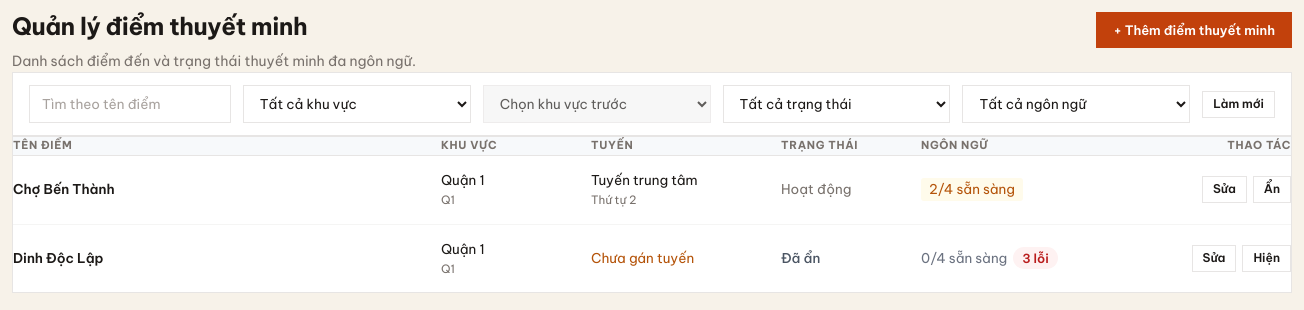
Test: PoiListPage › lọc theo trạng thái gửi overallStatus lên máy chủ
The image size is (1304, 310).
Expected: the link "Chợ Bến Thành" is shown, [13,180,114,198]
Select "Đã ẩn" in the dropdown named "Lọc theo trạng thái" at (836, 104), box [722,86,950,124]
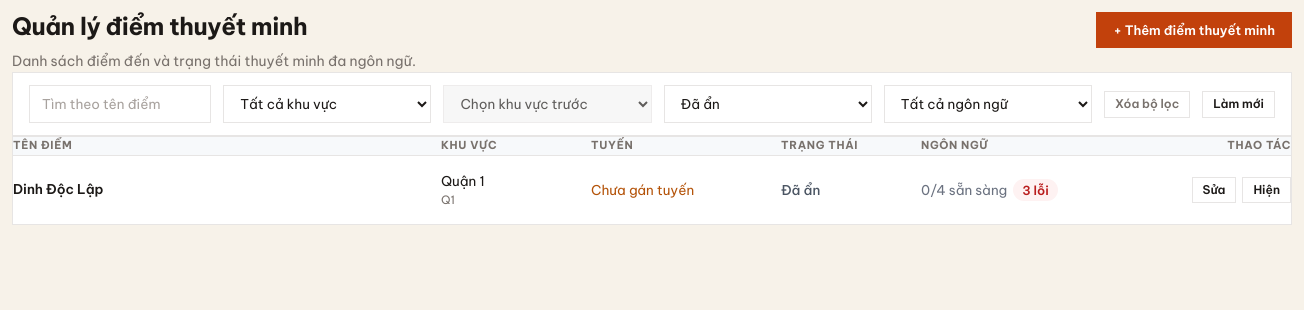
Expected: the link "Dinh Độc Lập" is shown, [13,180,104,198]
Expected: the link "Chợ Bến Thành" is gone
